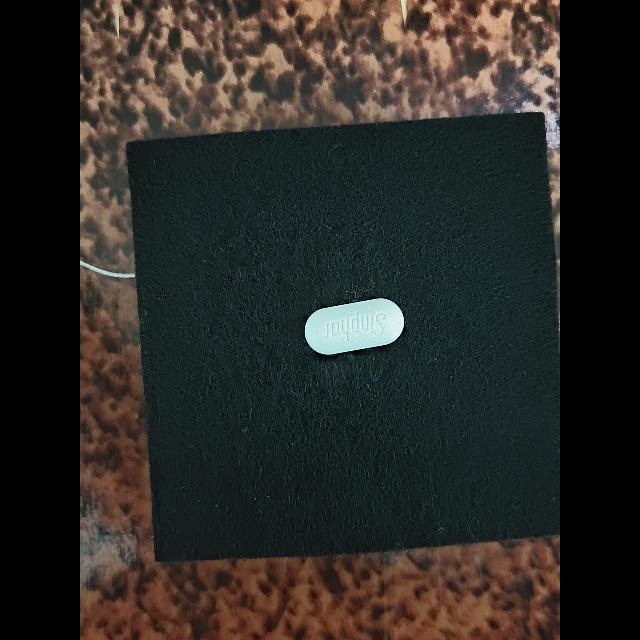Intact Pill: (304, 298, 405, 355)
